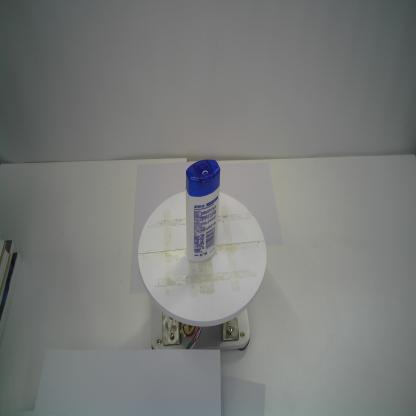Personal Hygiene: (184, 159, 220, 263)
